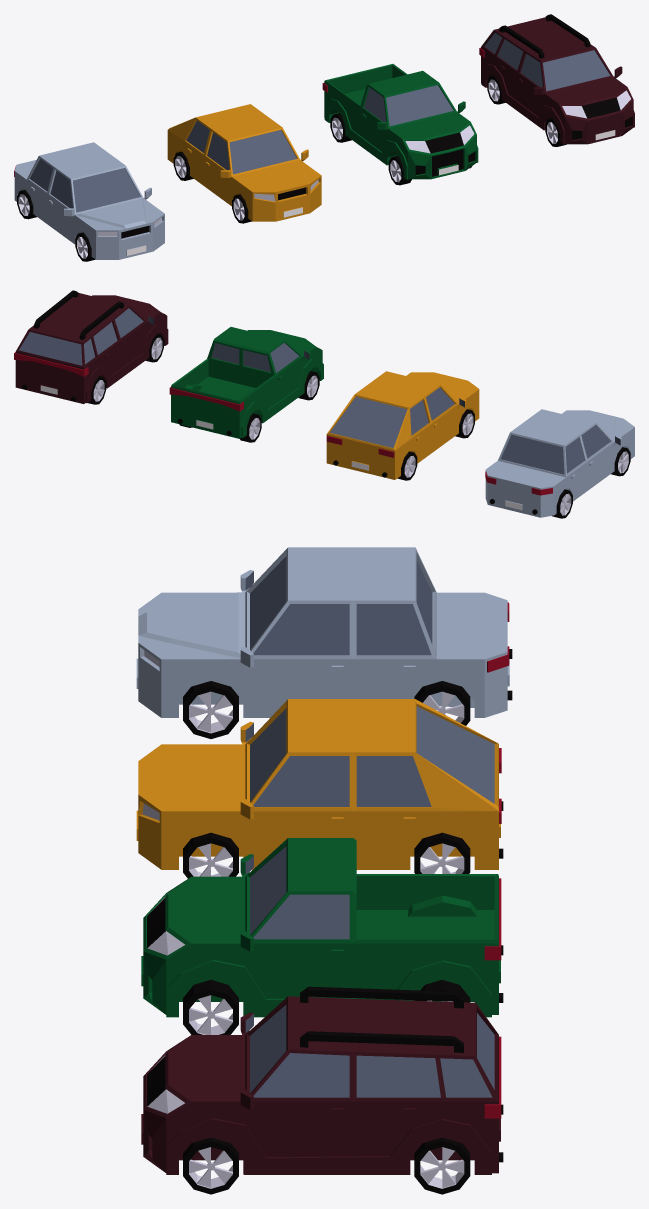
File: All vehicles preview.fbx
The picture shows the model from 3 angles, top to bottom: view 1: azimuth 30°, elevation 25°; view 2: azimuth 150°, elevation 25°; view 3: azimuth 270°, elevation 25°; orthographic projection. The views are drawn at different scales.
Parts seen in each view (by area): view 1: SUV, Pickup, Hatchback, Sedan; view 2: SUV, Pickup, Hatchback, Sedan; view 3: SUV, Hatchback, Sedan, Pickup.
Part boxes in pixels (bbox=[...]): SUV: bbox=[479, 14, 634, 146]; Pickup: bbox=[322, 64, 478, 185]; Hatchback: bbox=[167, 104, 321, 223]; Sedan: bbox=[14, 142, 164, 261]; SUV: bbox=[14, 290, 168, 404]; Pickup: bbox=[169, 327, 323, 442]; Hatchback: bbox=[326, 371, 479, 480]; Sedan: bbox=[485, 409, 634, 518]; SUV: bbox=[141, 986, 503, 1194]; Hatchback: bbox=[136, 699, 503, 878]; Sedan: bbox=[136, 547, 512, 738]; Pickup: bbox=[141, 838, 503, 1034].
Size of the model in its own units: 1781 by 230 by 523.
